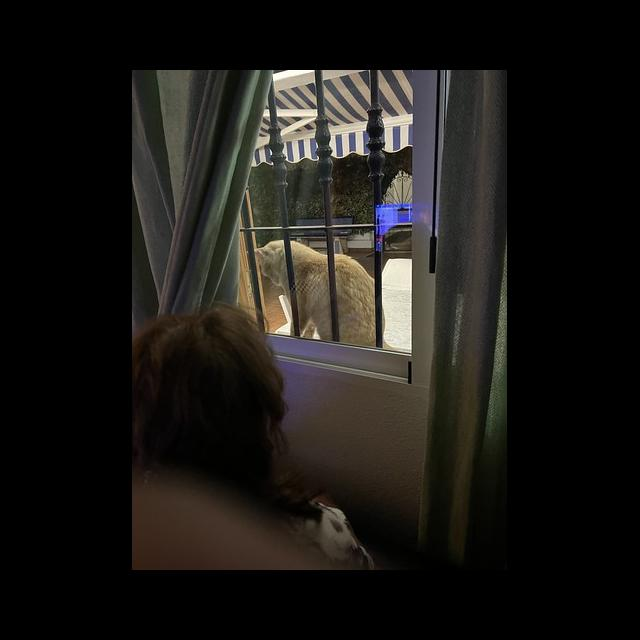animals: (251, 236, 385, 349)
